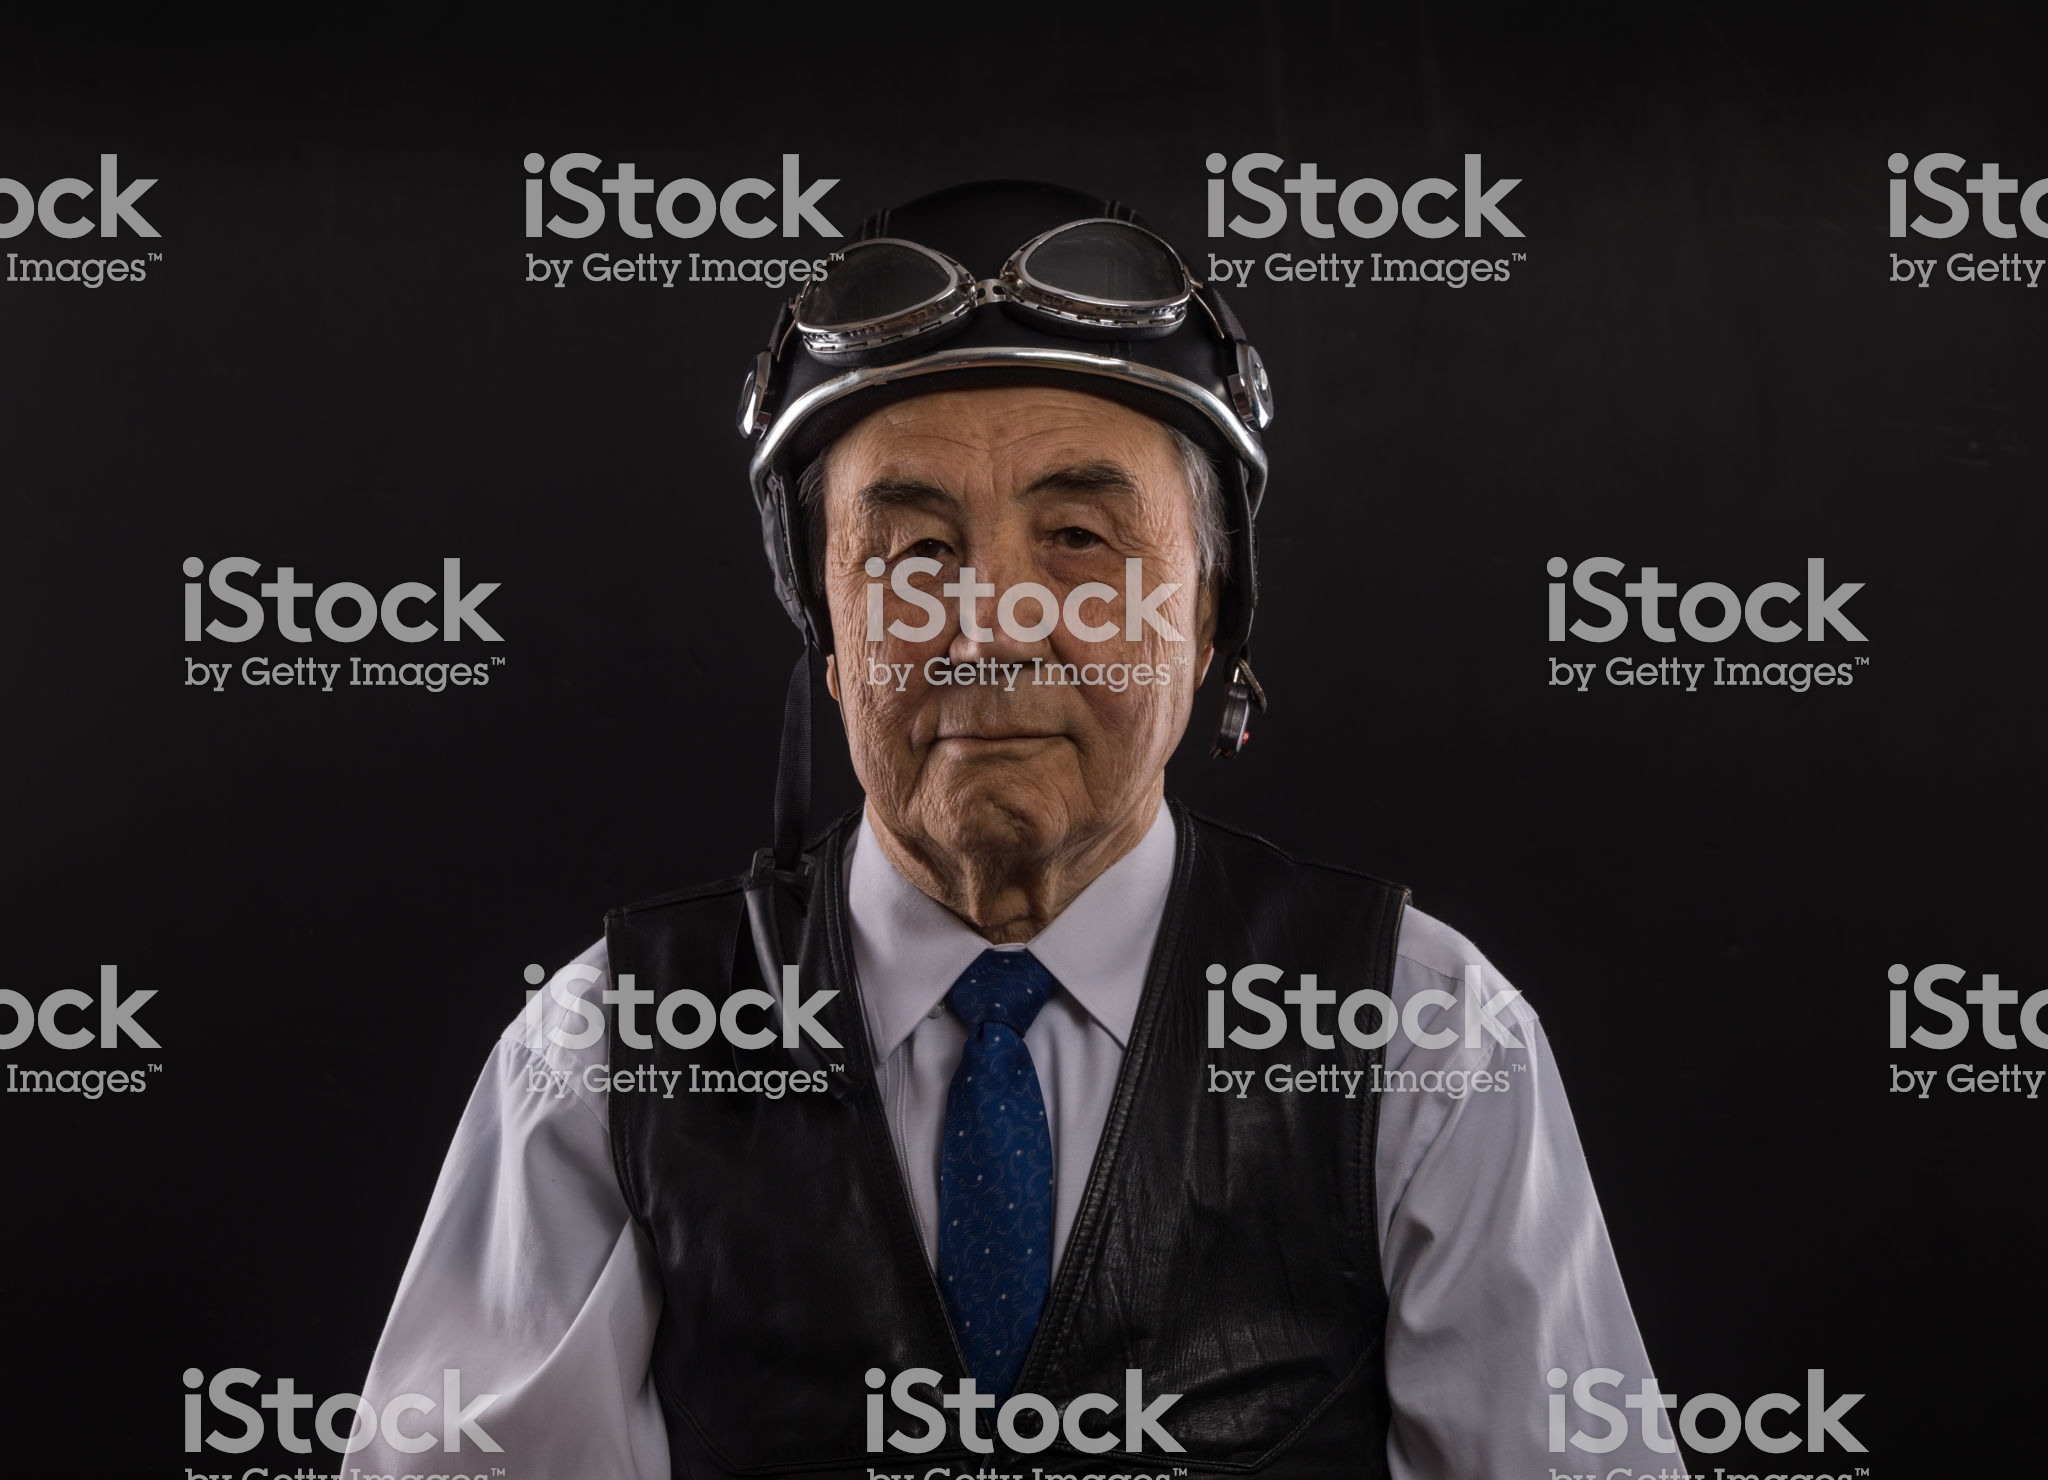helmet: (746, 216, 1301, 599)
